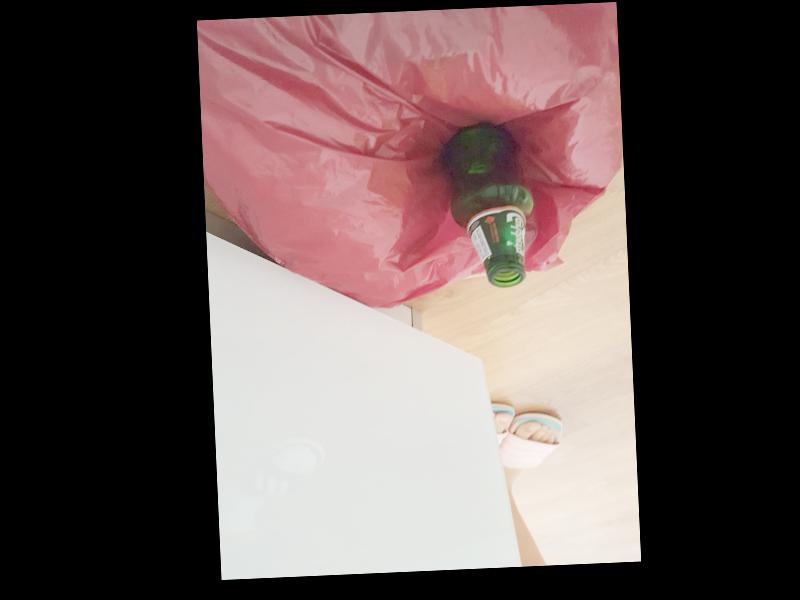Beer: (440, 120, 536, 289)
